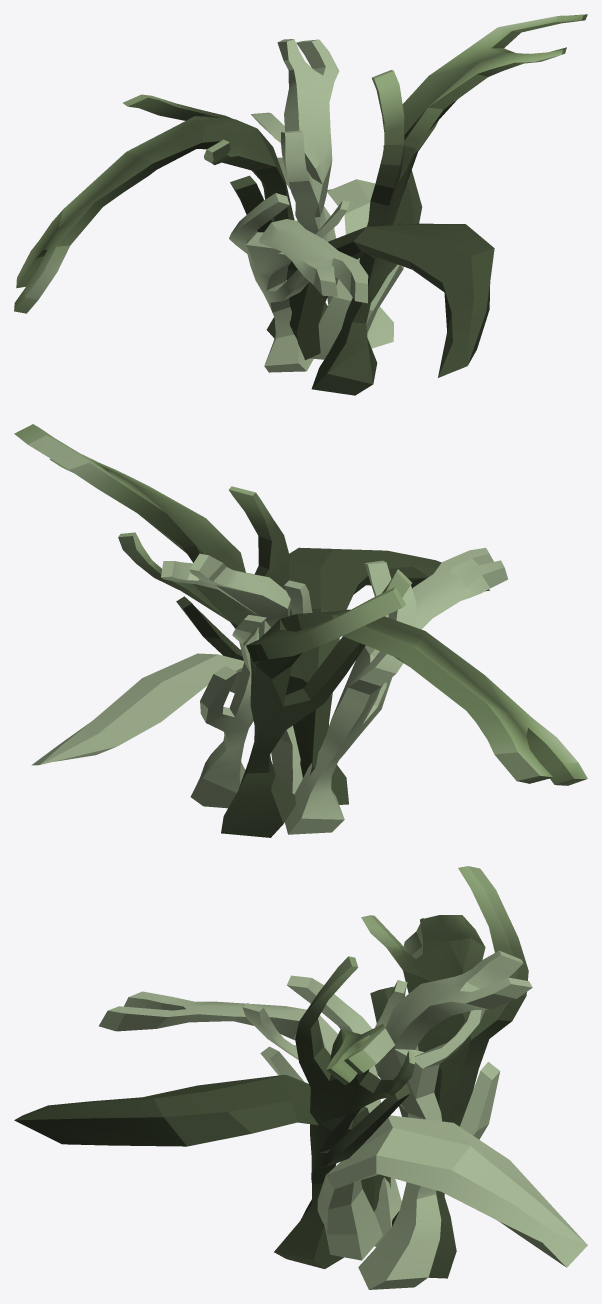
File: EA_Swamp_Leaf_01b.glb
3 views of the same model, one above another, from view 1: azimuth 30°, elevation 25°; view 2: azimuth 150°, elevation 25°; view 3: azimuth 270°, elevation 25° (orthographic). The views are drawn at different scales.
Parts seen in each view (by area): view 1: EA_Swamp_Leaf_01b; view 2: EA_Swamp_Leaf_01b; view 3: EA_Swamp_Leaf_01b.
Part boxes in pixels (box(x1,y1,x2,y2)): EA_Swamp_Leaf_01b: box(14, 14, 587, 395); EA_Swamp_Leaf_01b: box(14, 424, 587, 837); EA_Swamp_Leaf_01b: box(14, 866, 587, 1289).
Bounding box in the file's own units: 3.66 × 1.88 × 2.85.
Materials: 1 (1 with a texture image).
